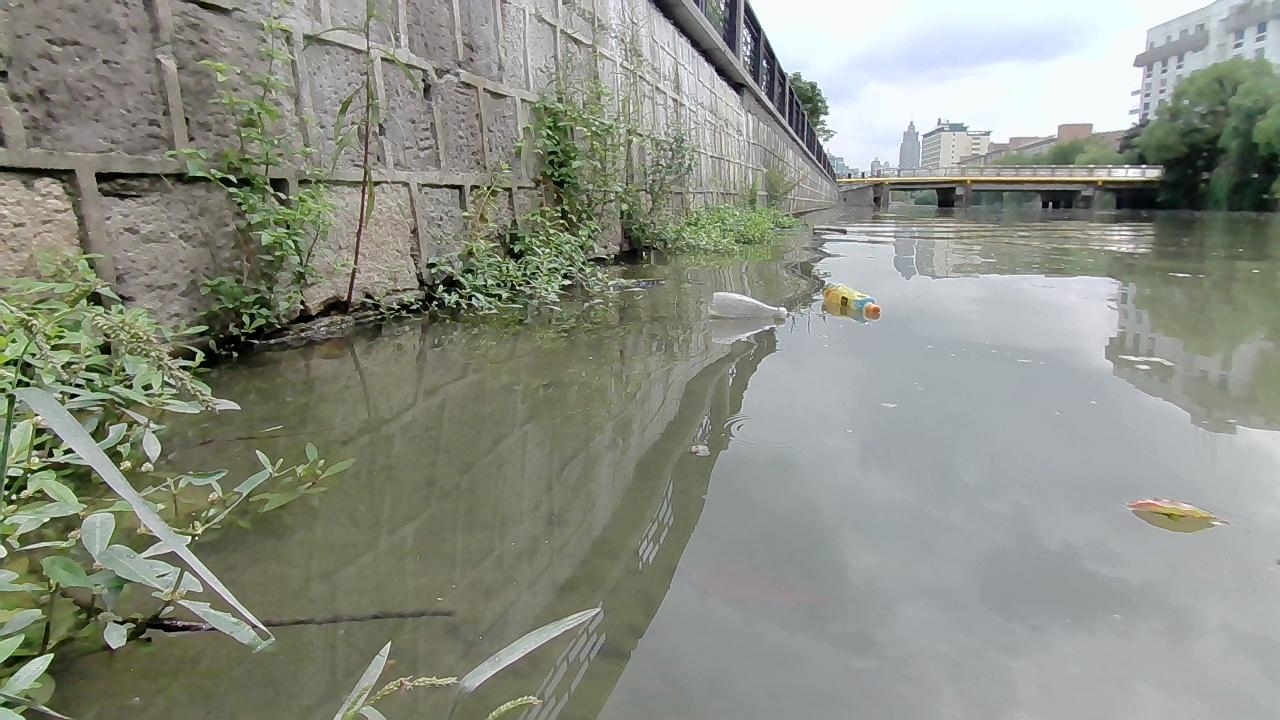bottle: (708, 289, 785, 324), (821, 281, 879, 318)
